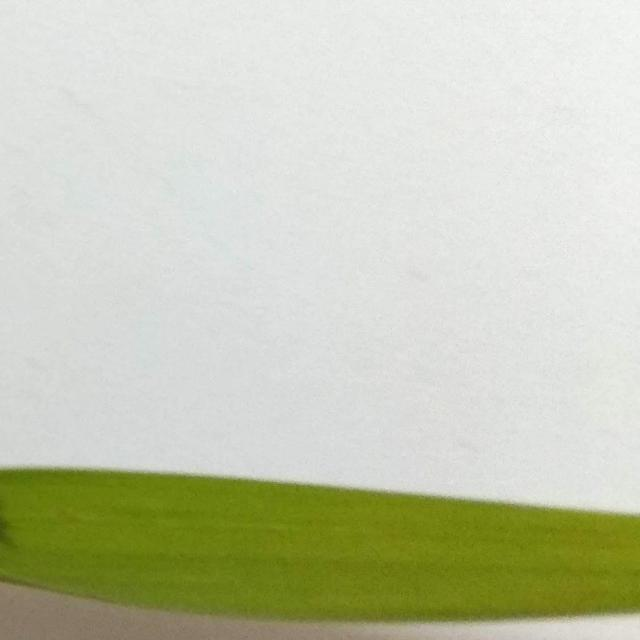Rice_Healthy: (0, 469, 639, 620)
